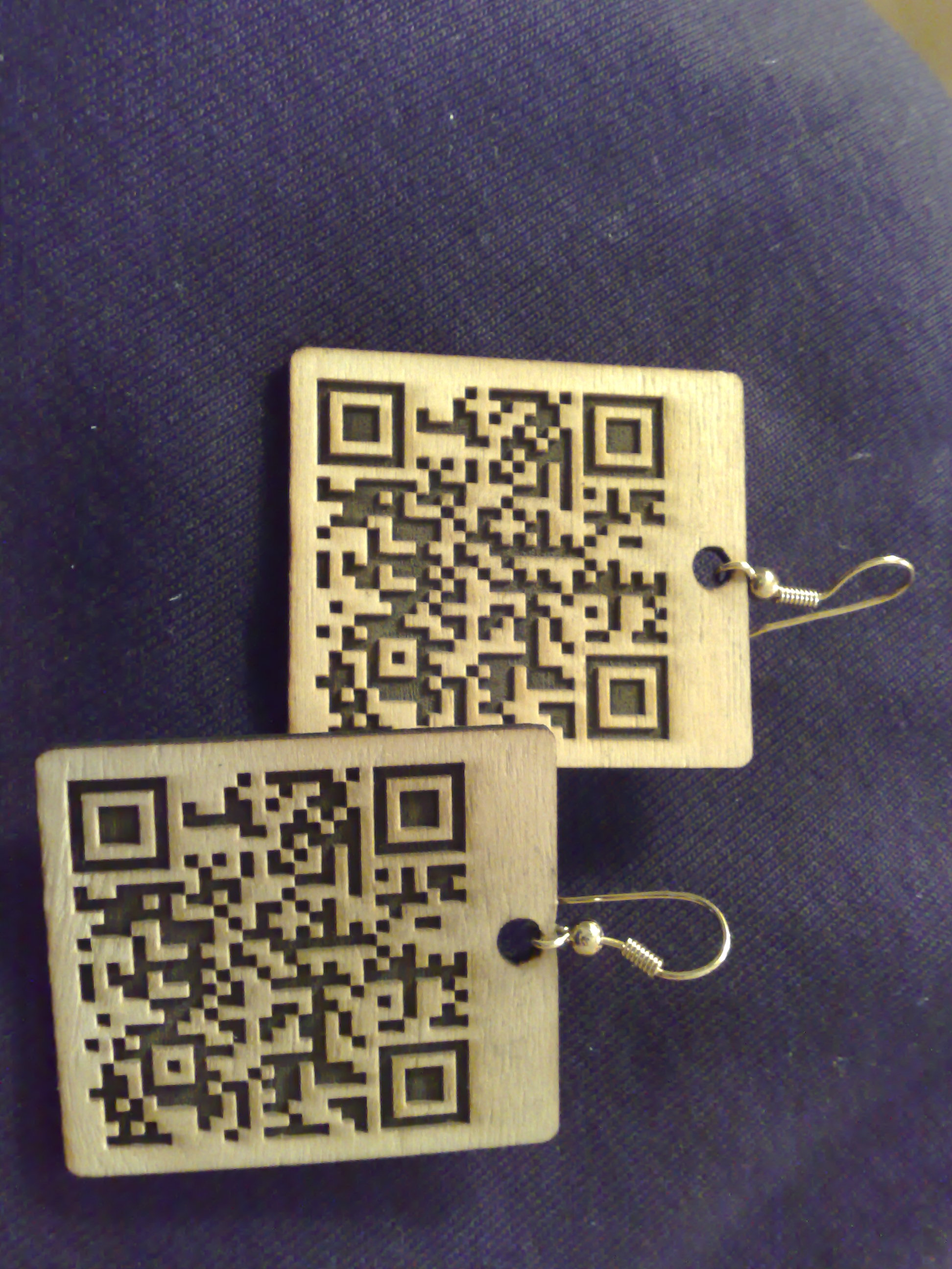QR-CODE: (67, 762, 470, 1150), (315, 377, 669, 740)
